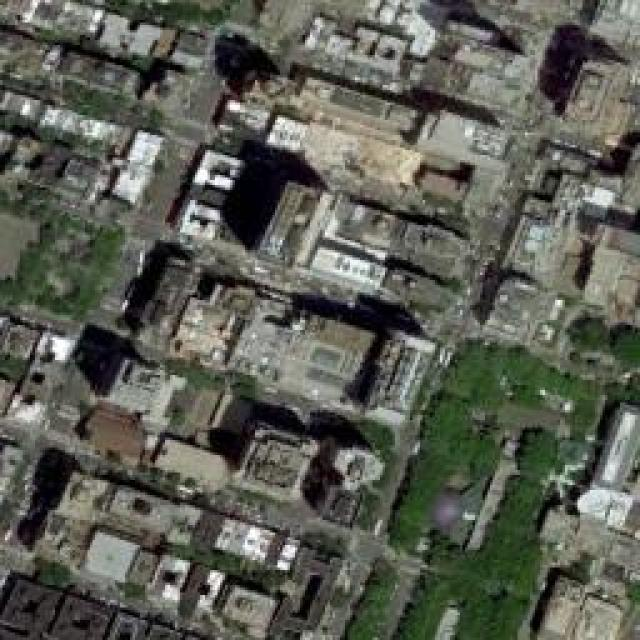City: (0, 0, 638, 638)
Grassland: (342, 325, 638, 637)
